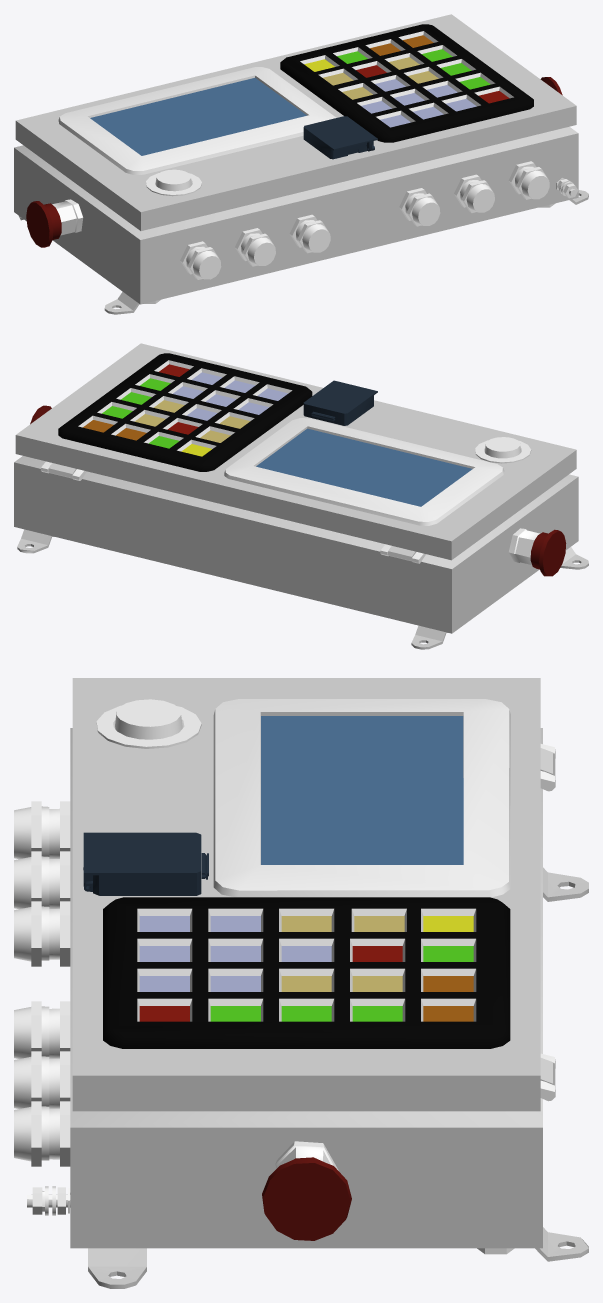
3 views of the same model, one above another, from view 1: azimuth 30°, elevation 25°; view 2: azimuth 150°, elevation 25°; view 3: azimuth 270°, elevation 25° (orthographic). The views are drawn at different scales.
Visible parts, largest first — view 1: PU-03; view 2: PU-03; view 3: PU-03.
Part boxes in pixels (left/top/right/bottom): PU-03: left=14, top=14, right=588, bottom=314; PU-03: left=14, top=343, right=588, bottom=649; PU-03: left=14, top=678, right=588, bottom=1288.
Size of the model in its own units: 470 by 101 by 243.
